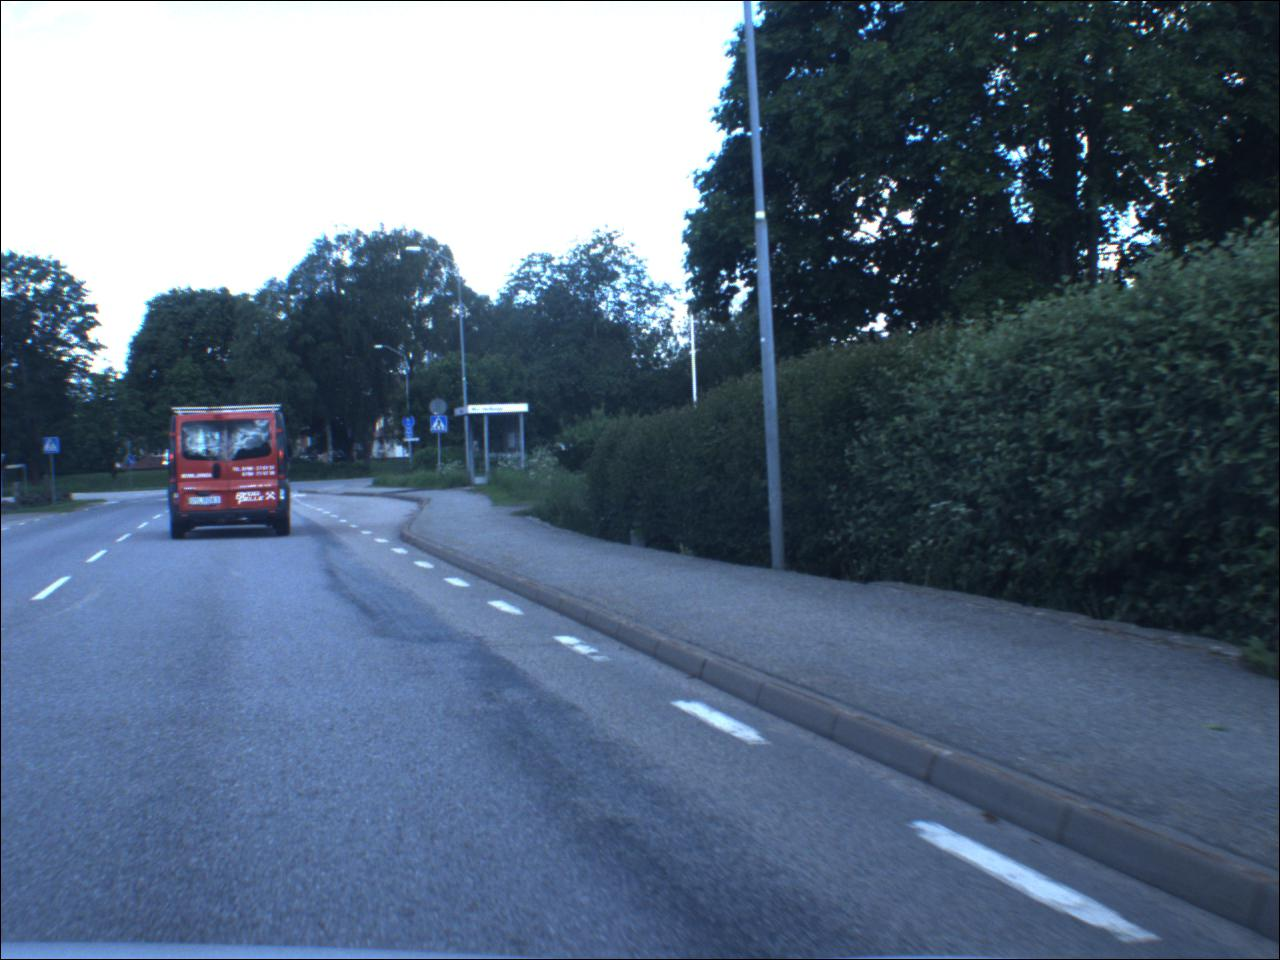PEDESTRIAN_CROSSING: (431, 416, 453, 436), (44, 439, 63, 457)
